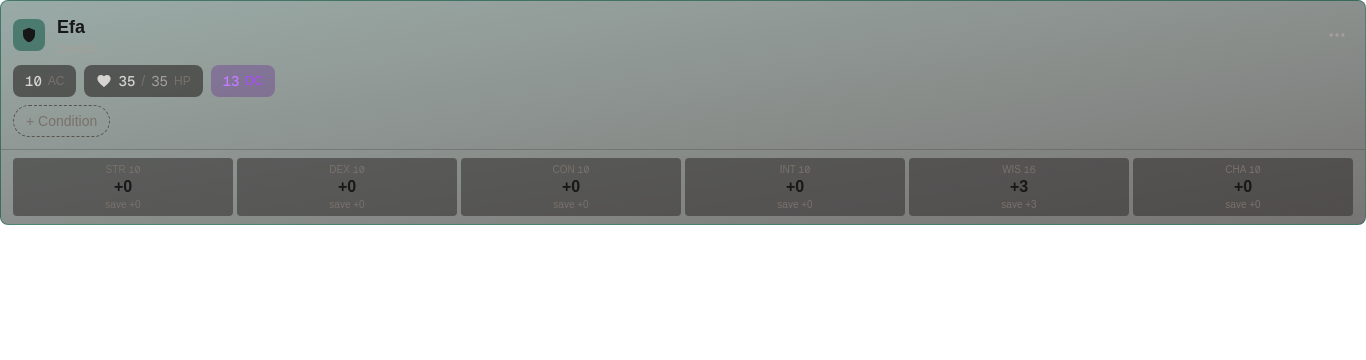
party card ⋯ menu › Escape closes the menu
Click the button named "More actions for Efa" at (1337, 35), box left=1321, top=19, right=1353, bottom=51
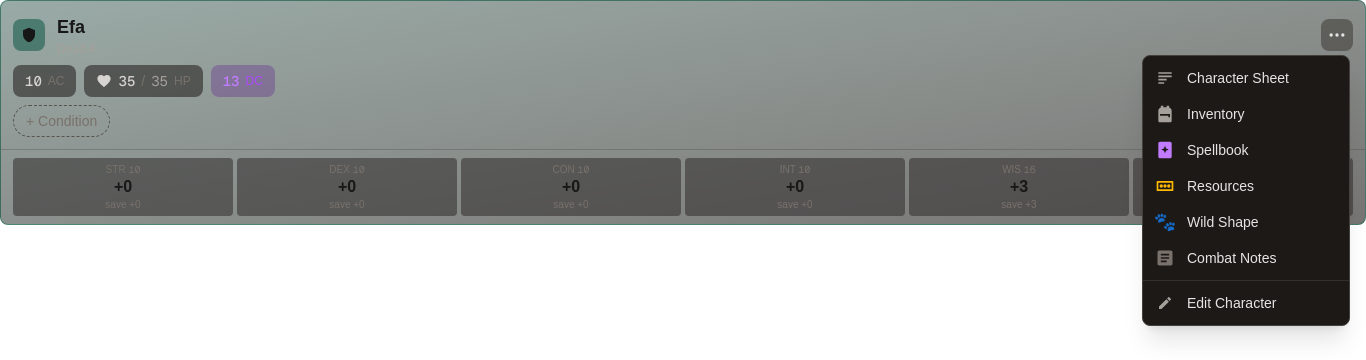
Press Escape
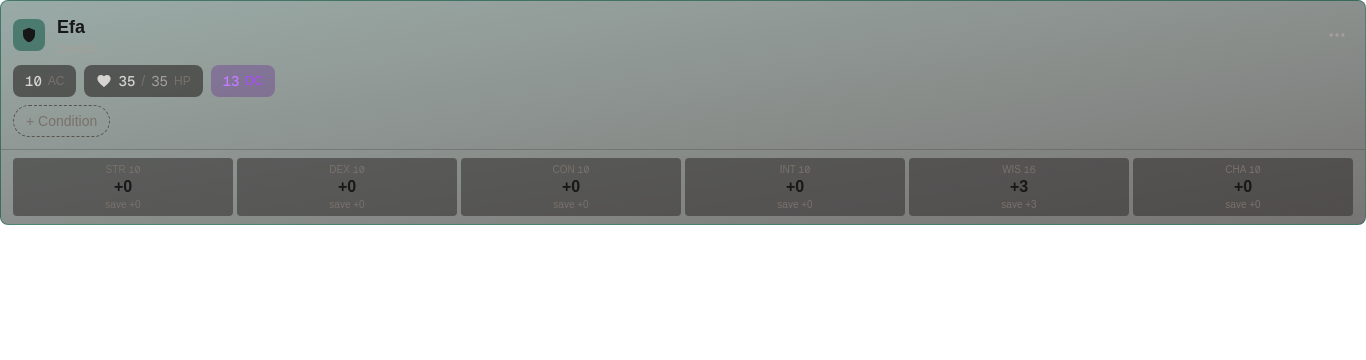
Result: the menu is gone
